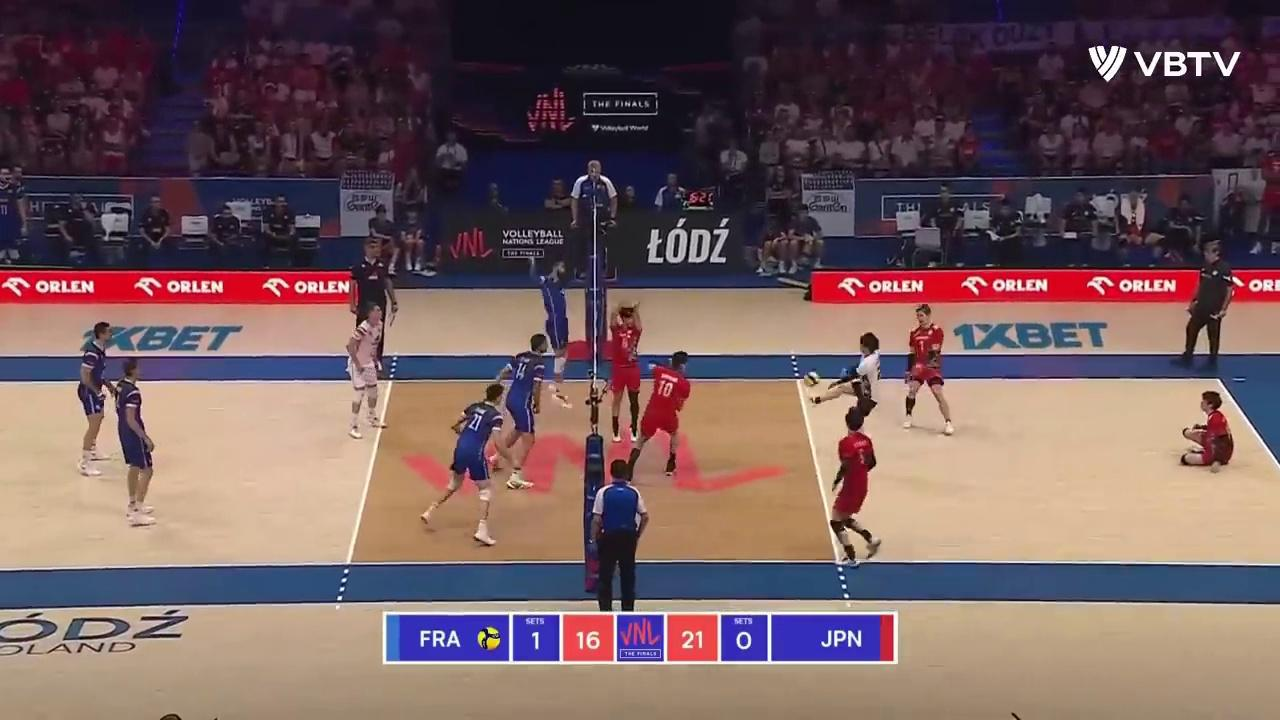ball: (802, 372, 820, 388)
